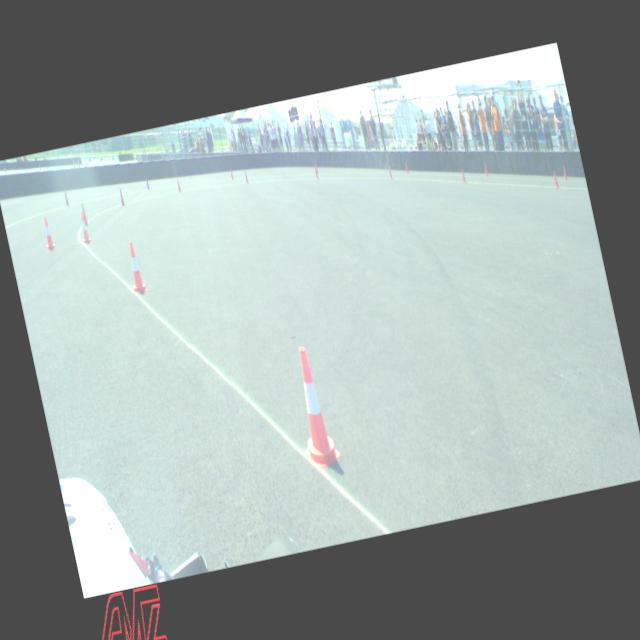orange_cone: (284, 344, 342, 471), (123, 240, 147, 294), (40, 214, 56, 249), (76, 210, 92, 243)
unknown_cone: (80, 202, 88, 225), (118, 188, 126, 206), (551, 170, 559, 188), (62, 189, 70, 206), (560, 164, 568, 180), (460, 167, 466, 182), (176, 178, 182, 192), (144, 176, 150, 190), (313, 166, 318, 178), (484, 162, 488, 176), (388, 166, 392, 179), (244, 170, 248, 182), (314, 162, 318, 174), (229, 168, 233, 179), (404, 162, 408, 172)
